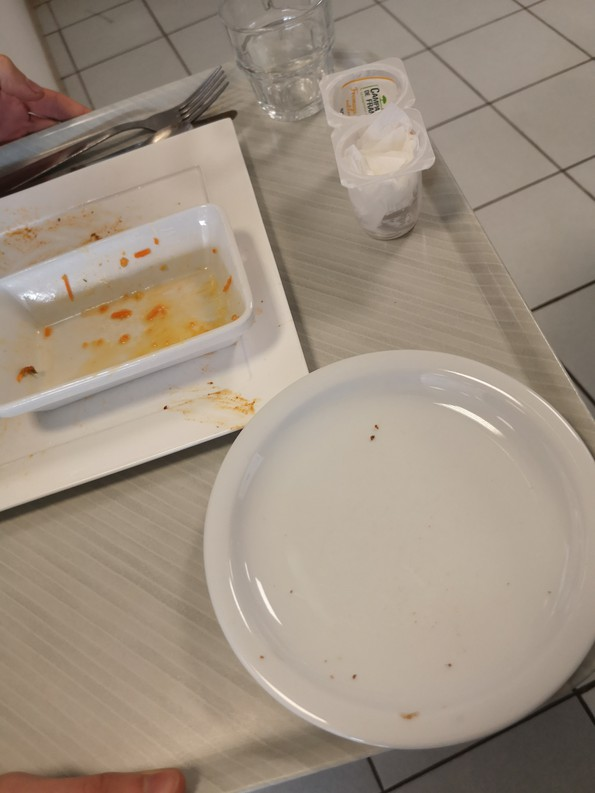cup: (206, 4, 344, 118)
cutlery: (1, 67, 241, 199)
trash: (318, 67, 437, 238)
